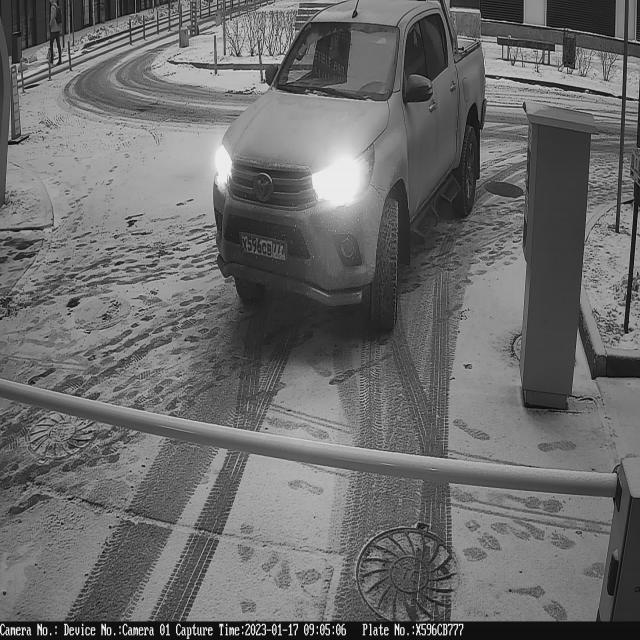car-plate-numbers: (236, 230, 289, 270)
